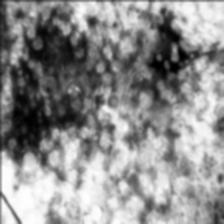Potentially Malignant Skin Tumors: (8, 19, 78, 153)
